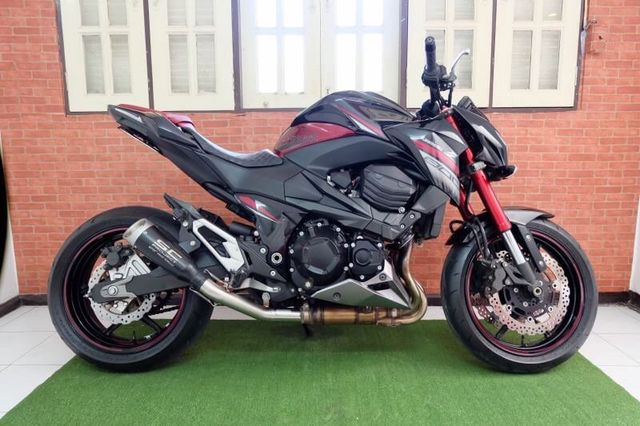motorcycle: (49, 77, 597, 374)
